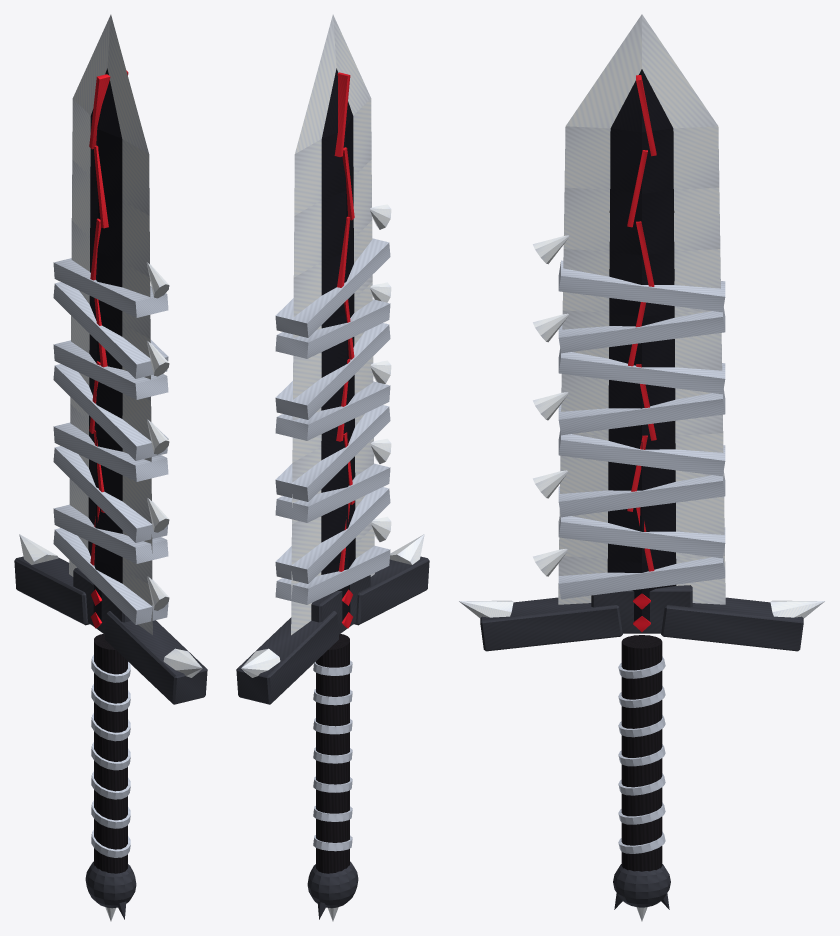
Rendered from Shroud.fbx.
3 views of the same model, side by side, from view 1: azimuth 30°, elevation 25°; view 2: azimuth 150°, elevation 25°; view 3: azimuth 270°, elevation 25° (orthographic).
Parts seen in each view (by area): view 1: Shroud; view 2: Shroud; view 3: Shroud.
Boxes of the visible parts, x1,y1,x2,y2 form: Shroud: [14, 14, 207, 921]; Shroud: [236, 14, 429, 921]; Shroud: [459, 14, 824, 921].
Size of the model in its own units: 44.01 by 930 by 341.
Materials: 1 (1 with a texture image).
